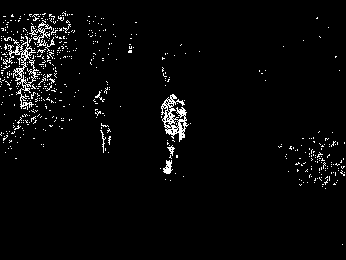person: (161, 94, 187, 175)
